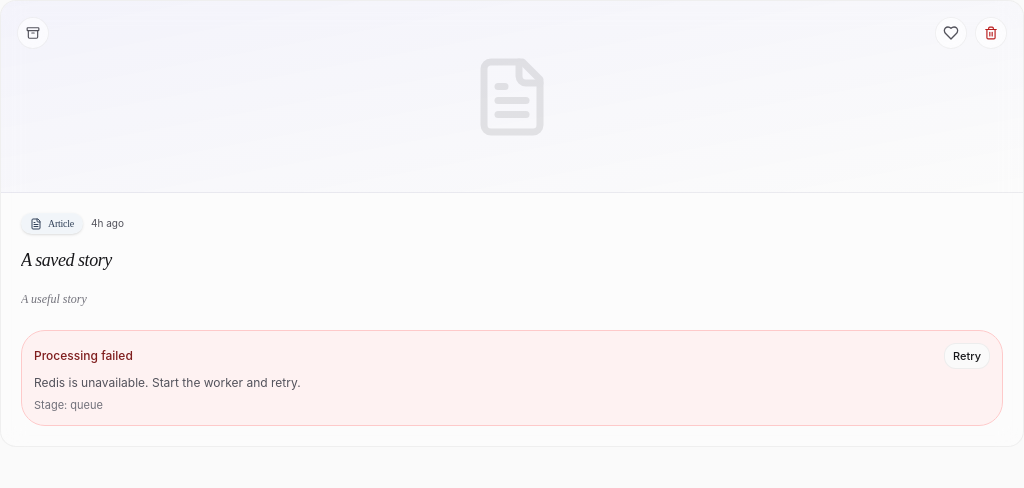
Scenario: ItemCard recovery actions › shows the persisted failure reason and offers retry
Expected: the message shows "Redis is unavailable", [34,375,301,390]
Expected: the text "Stage: queue" is shown, [34,398,103,412]
Click the button with aria-label "Retry processing".
click(967, 356)  # box [944,342,990,369]
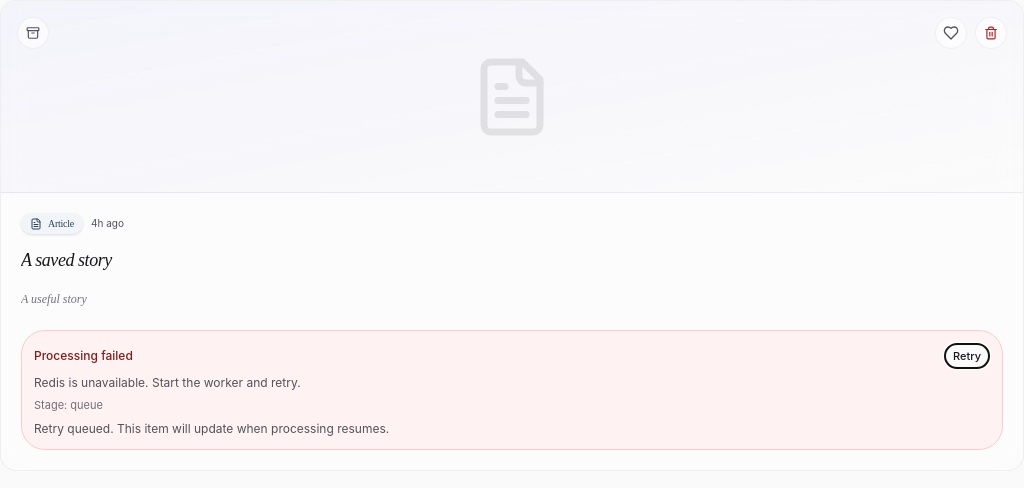
Result: the message shows "Retry queued" at [34,421,389,436]
